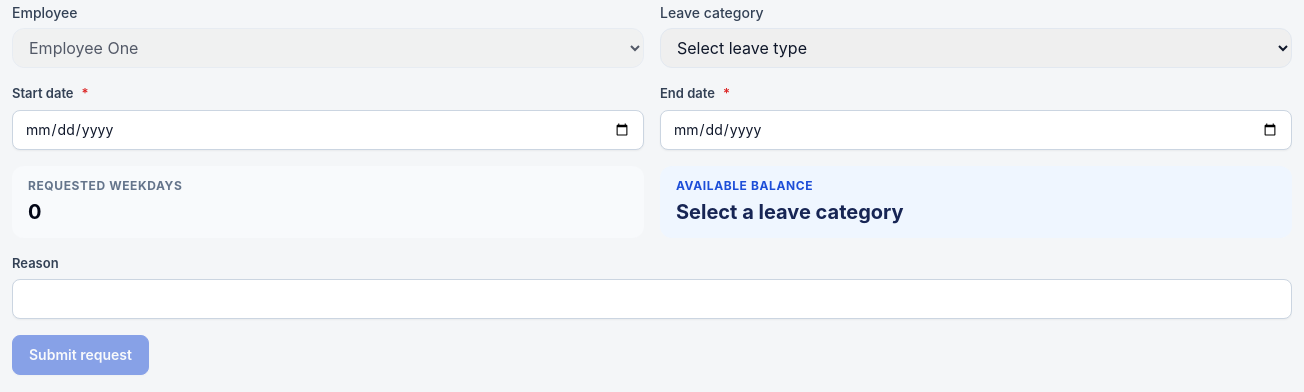
balance-backed leave uses backend calculated availability
The width and height of the screenshot is (1304, 392).
Select "Annual leave" in the dropdown labelled "Leave category" at (976, 48), box [660,28,1292,68]
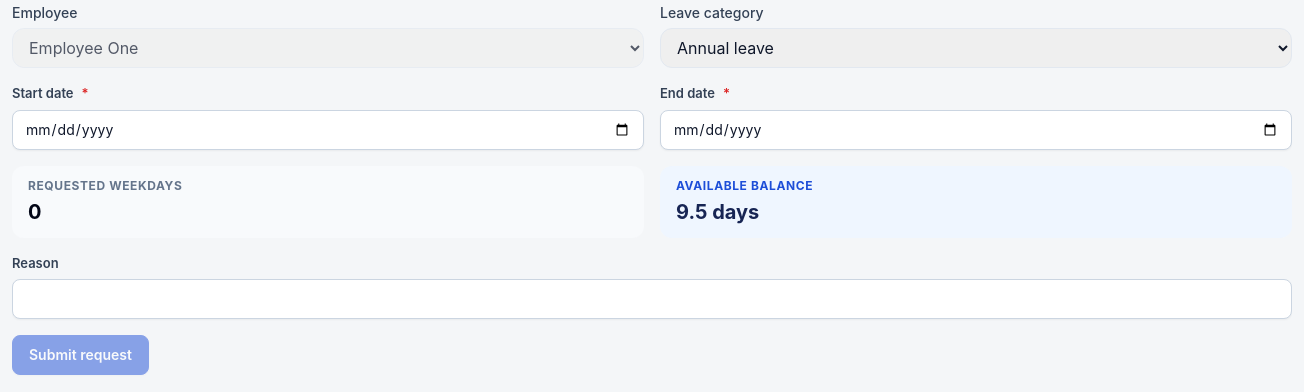
Expected: the text "9.5 days" is shown, [676,200,759,224]
